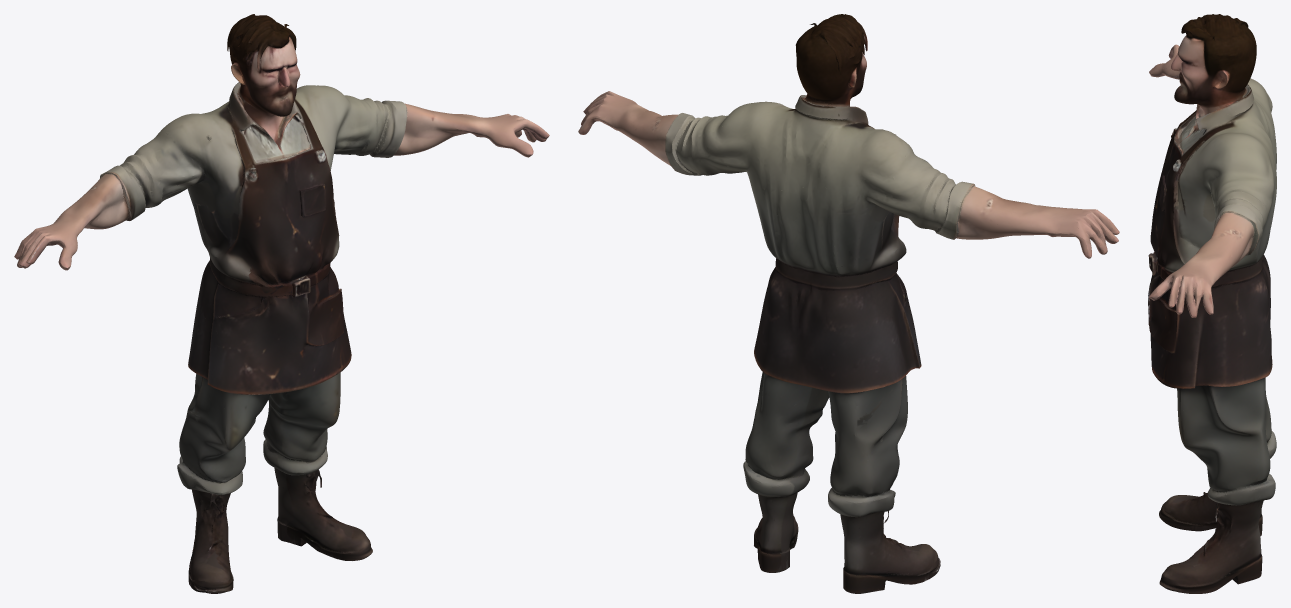
The model's file is base_basic_pbr.fbx.
3 views of the same model, side by side, from view 1: azimuth 30°, elevation 25°; view 2: azimuth 150°, elevation 25°; view 3: azimuth 270°, elevation 25° (orthographic). The views are drawn at different scales.
Parts seen in each view (by area): view 1: model; view 2: model; view 3: model.
Part boxes in pixels (x1=…): model: x1=14, y1=14, x2=549, y2=593; model: x1=578, y1=14, x2=1119, y2=593; model: x1=1148, y1=14, x2=1276, y2=593.
Bounding box in the file's own units: 190 × 186 × 40.48.
1 material, 1 textured.
